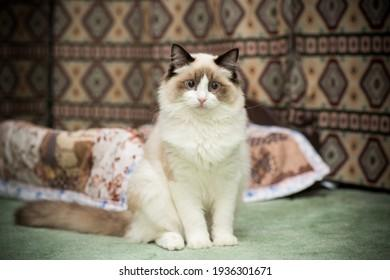ragdoll: (152, 26, 255, 153)
